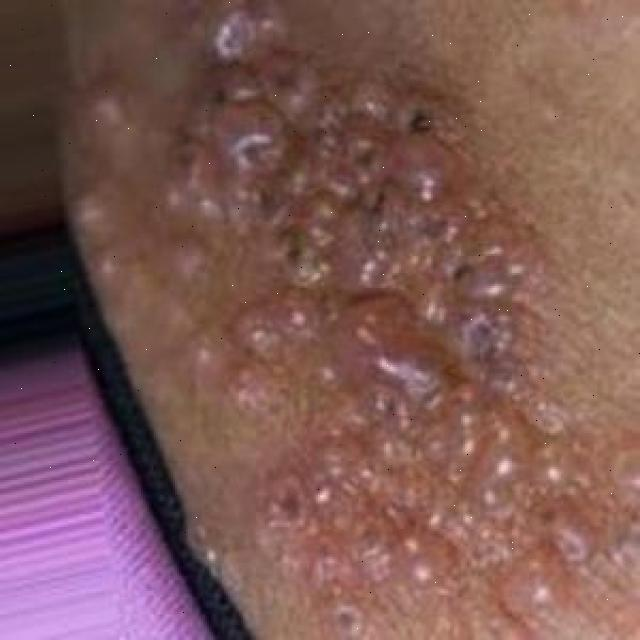Shingles: (57, 2, 640, 623)
